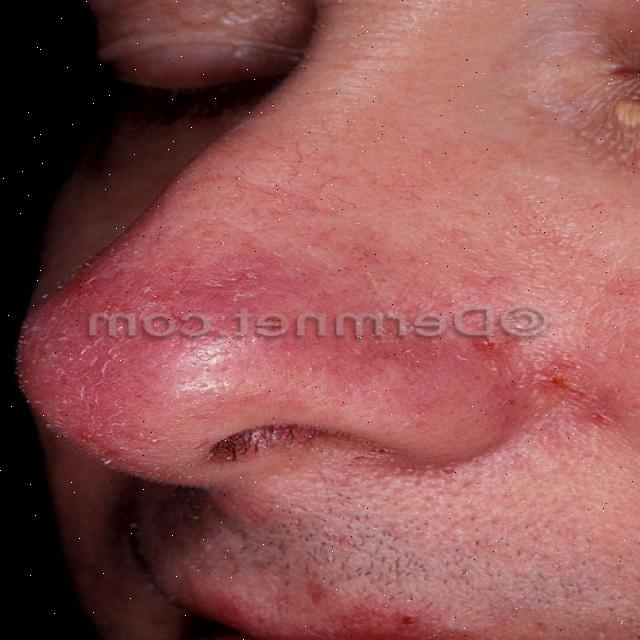images: (8, 0, 638, 638)
